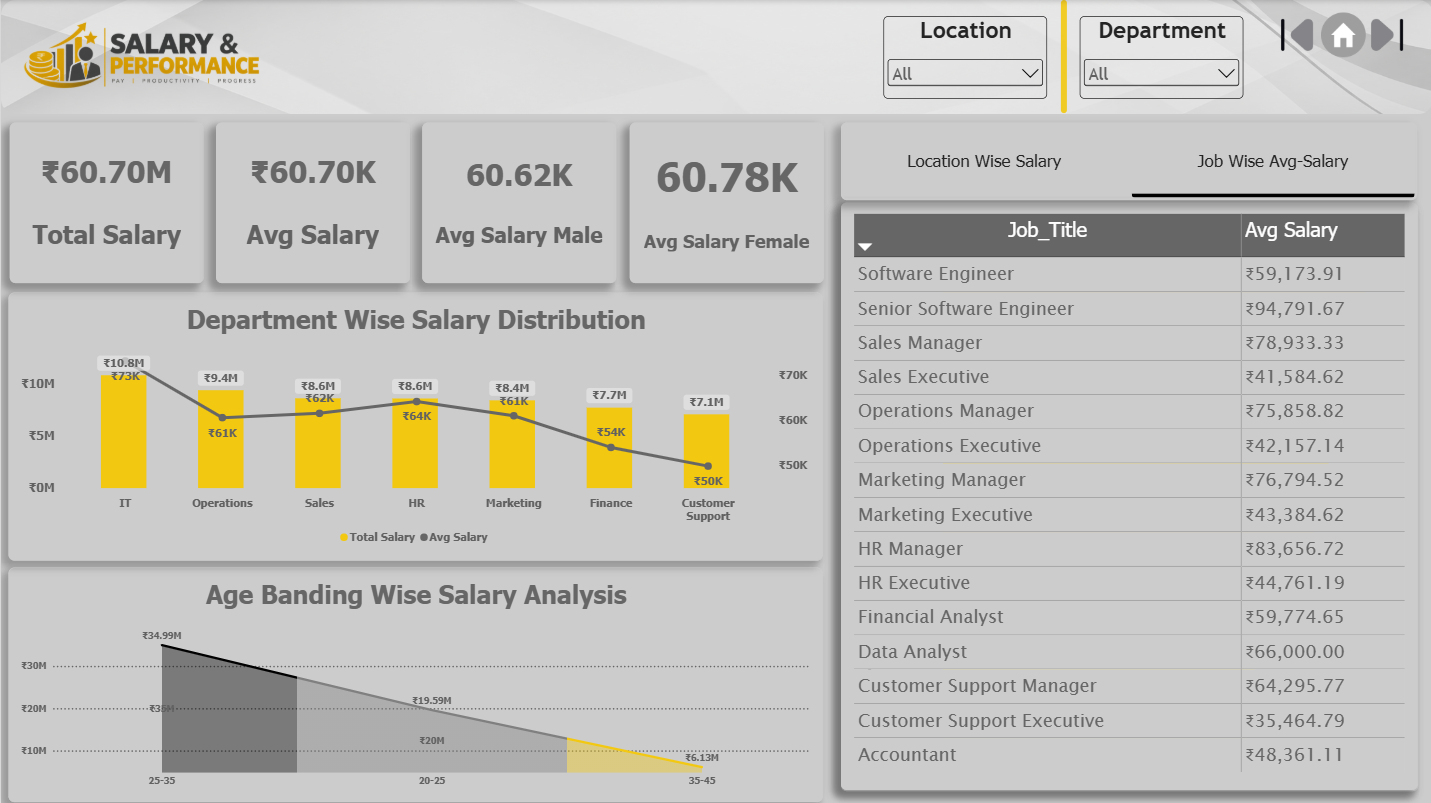

What the dashboard file says about the page in this screenshot:
{"tool":"powerbi","page":{"name":"Salary And Performance","canvas":[1920,1080],"ordinal":4},"visuals":[{"type":"image","box":[0,0,1919.5,152.4],"z":0},{"type":"shape","box":[1148.9,0,550.4,151.6],"z":1000},{"type":"slicer","title":"Department","fields":{"Values":["hr_analytics departments.Department_Name"]},"box":[1445.5,22,219.4,110.5],"z":2000},{"type":"image","box":[1707,16,60,60],"z":3000},{"type":"image","box":[1768.4,17.6,60,60],"z":4000},{"type":"image","box":[1827.4,16.7,60,60],"z":5000},{"type":"slicer","title":"Location","fields":{"Values":["hr_analytics employees.Location"]},"box":[1182.5,21.8,219.4,110.5],"z":6000},{"type":"image","box":[0,0,397,152.4],"z":7000},{"type":"cardVisual","title":"Total Salary","fields":{"Data":["Table.Total Salary"]},"box":[11.7,164.1,260,215],"z":8000},{"type":"cardVisual","title":"Average Salary","fields":{"Data":["Table.Avg Salary"]},"box":[287.9,164.5,260,215],"z":9000},{"type":"cardVisual","title":"Average Salary-Male","fields":{"Data":["Table.Avg Salary Male"]},"box":[564.6,164.5,260,215],"z":10000},{"type":"cardVisual","title":"Average Salary-Female","fields":{"Data":["Table.Avg Salary Female"]},"box":[843.2,164.5,260,215],"z":11000},{"type":"lineClusteredColumnComboChart","title":"Department Wise Salary Distribution","fields":{"Category":["hr_analytics departments.Department_Name"],"Y":["Table.Total Salary"],"Y2":["Table.Avg Salary"]},"box":[10.8,391.9,1091.2,359.6],"z":12000},{"type":"stackedAreaChart","title":"Age Banding Wise Salary Analysis","fields":{"Category":["hr_analytics employees.Age Band"],"Y":["Table.Total Salary"]},"box":[10.8,760.4,1091.2,314.6],"z":13000},{"type":"clusteredBarChart","title":"Location Wise Salary","fields":{"Category":["hr_analytics employees.Location"],"Y":["Table.Total Salary"]},"box":[1125.6,271.3,773.8,788.9],"z":14000},{"type":"tableEx","title":"Job Wise Avg-Salary","fields":{"Values":["hr_analytics jobs.Job_Title","Table.Avg Salary"]},"box":[1125.3,271.1,772.6,787],"z":15000},{"type":"bookmarkNavigator","box":[1126,164,772,104],"z":16000}]}

Visuals, with their boxes in screenshot pixels (x1, y1, x2, y2), scaled from the page's 1920x1080 canvas onto the 1431x803 screenshot:
image: detection(0, 0, 1430, 113)
shape: detection(856, 0, 1267, 113)
"Department" slicer: detection(1077, 16, 1241, 99)
image: detection(1272, 12, 1317, 57)
image: detection(1318, 13, 1363, 58)
image: detection(1362, 12, 1407, 57)
"Location" slicer: detection(881, 16, 1045, 98)
image: detection(0, 0, 296, 113)
"Total Salary" cardVisual: detection(9, 122, 203, 282)
"Average Salary" cardVisual: detection(215, 122, 408, 282)
"Average Salary-Male" cardVisual: detection(421, 122, 615, 282)
"Average Salary-Female" cardVisual: detection(628, 122, 822, 282)
"Department Wise Salary Distribution" lineClusteredColumnComboChart: detection(8, 291, 821, 559)
"Age Banding Wise Salary Analysis" stackedAreaChart: detection(8, 565, 821, 799)
"Location Wise Salary" clusteredBarChart: detection(839, 202, 1416, 788)
"Job Wise Avg-Salary" tableEx: detection(839, 202, 1415, 787)
bookmarkNavigator: detection(839, 122, 1415, 199)
